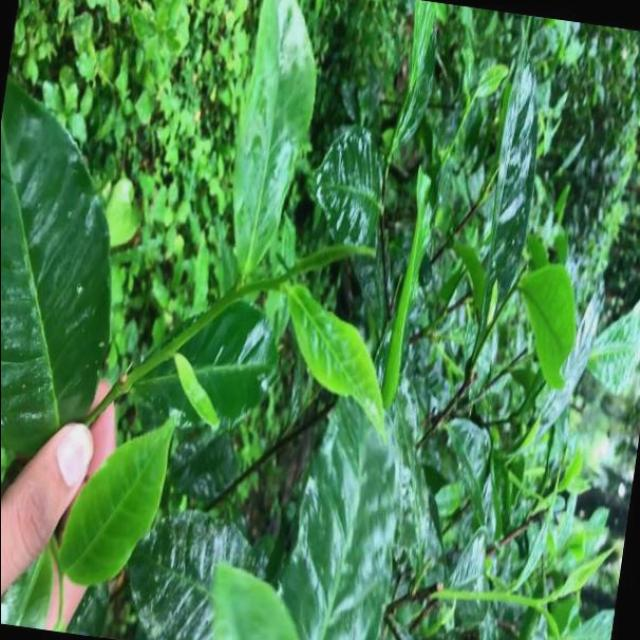Stem: (232, 287, 243, 297)
